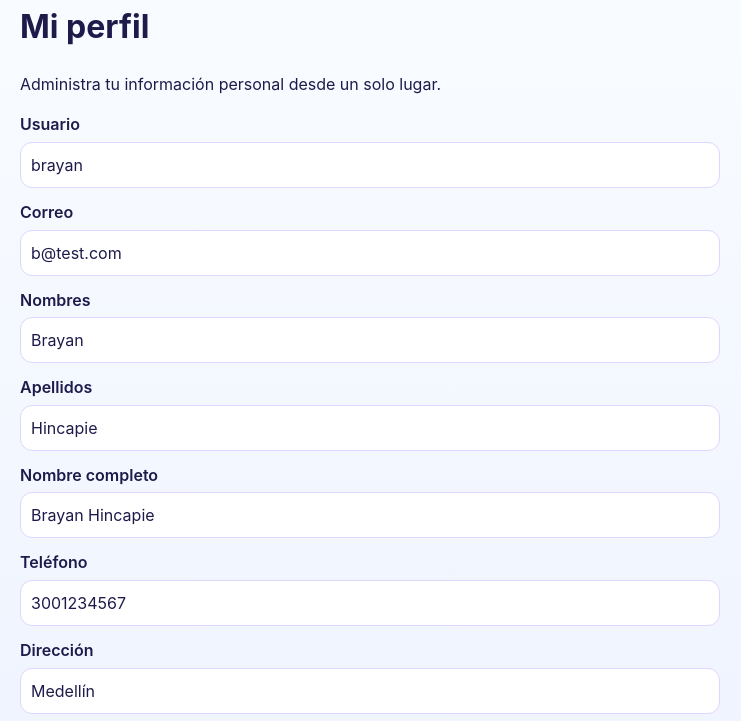
Test: Profile › envía actualización del perfil
Replace the text in the field showing "b@test.com" below "Correo" with "nuevo@test.com" at (370, 253), box [20,230,720,276]
(page scrolled)
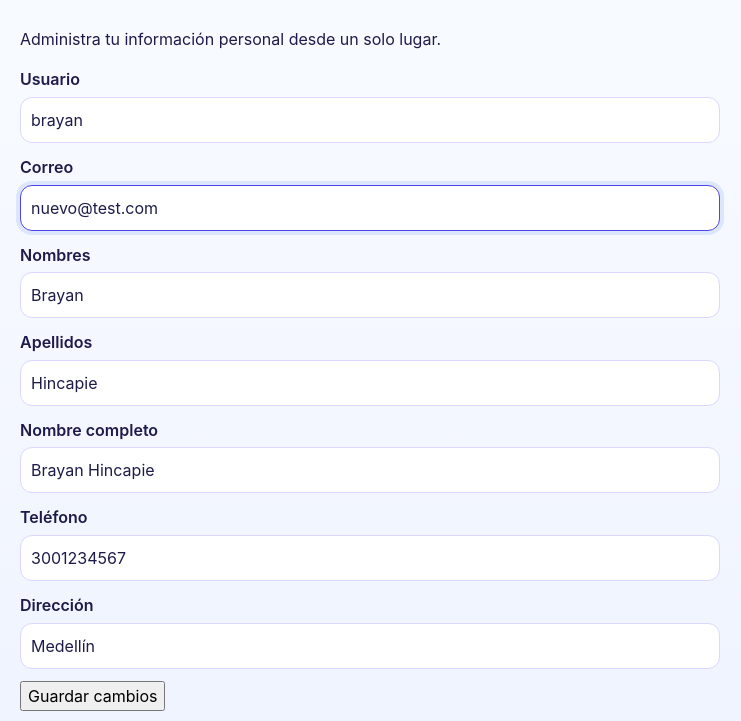
Click the button "Guardar cambios".
click(93, 696)  # box [20,681,166,711]
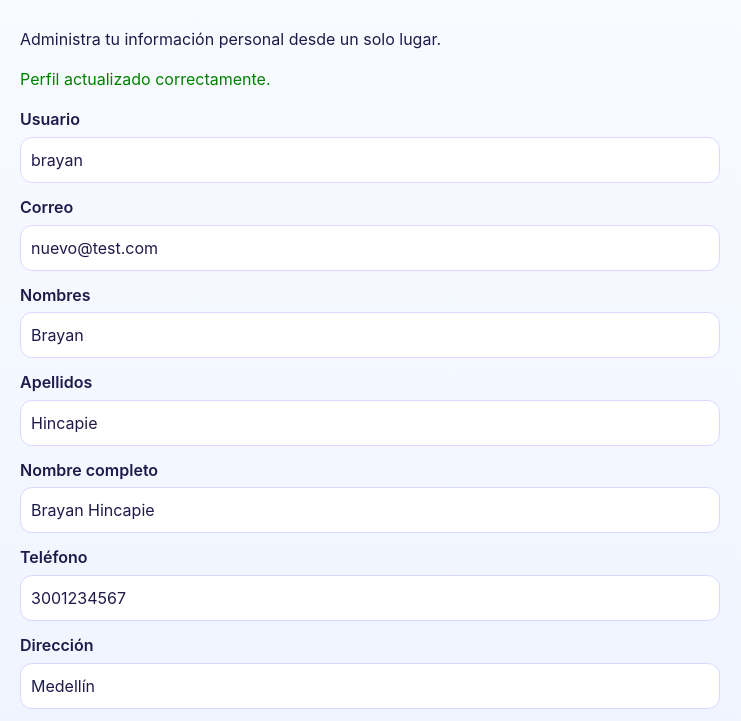
expect the text "Perfil actualizado correctamente." is shown: met, box [20,69,270,89]
